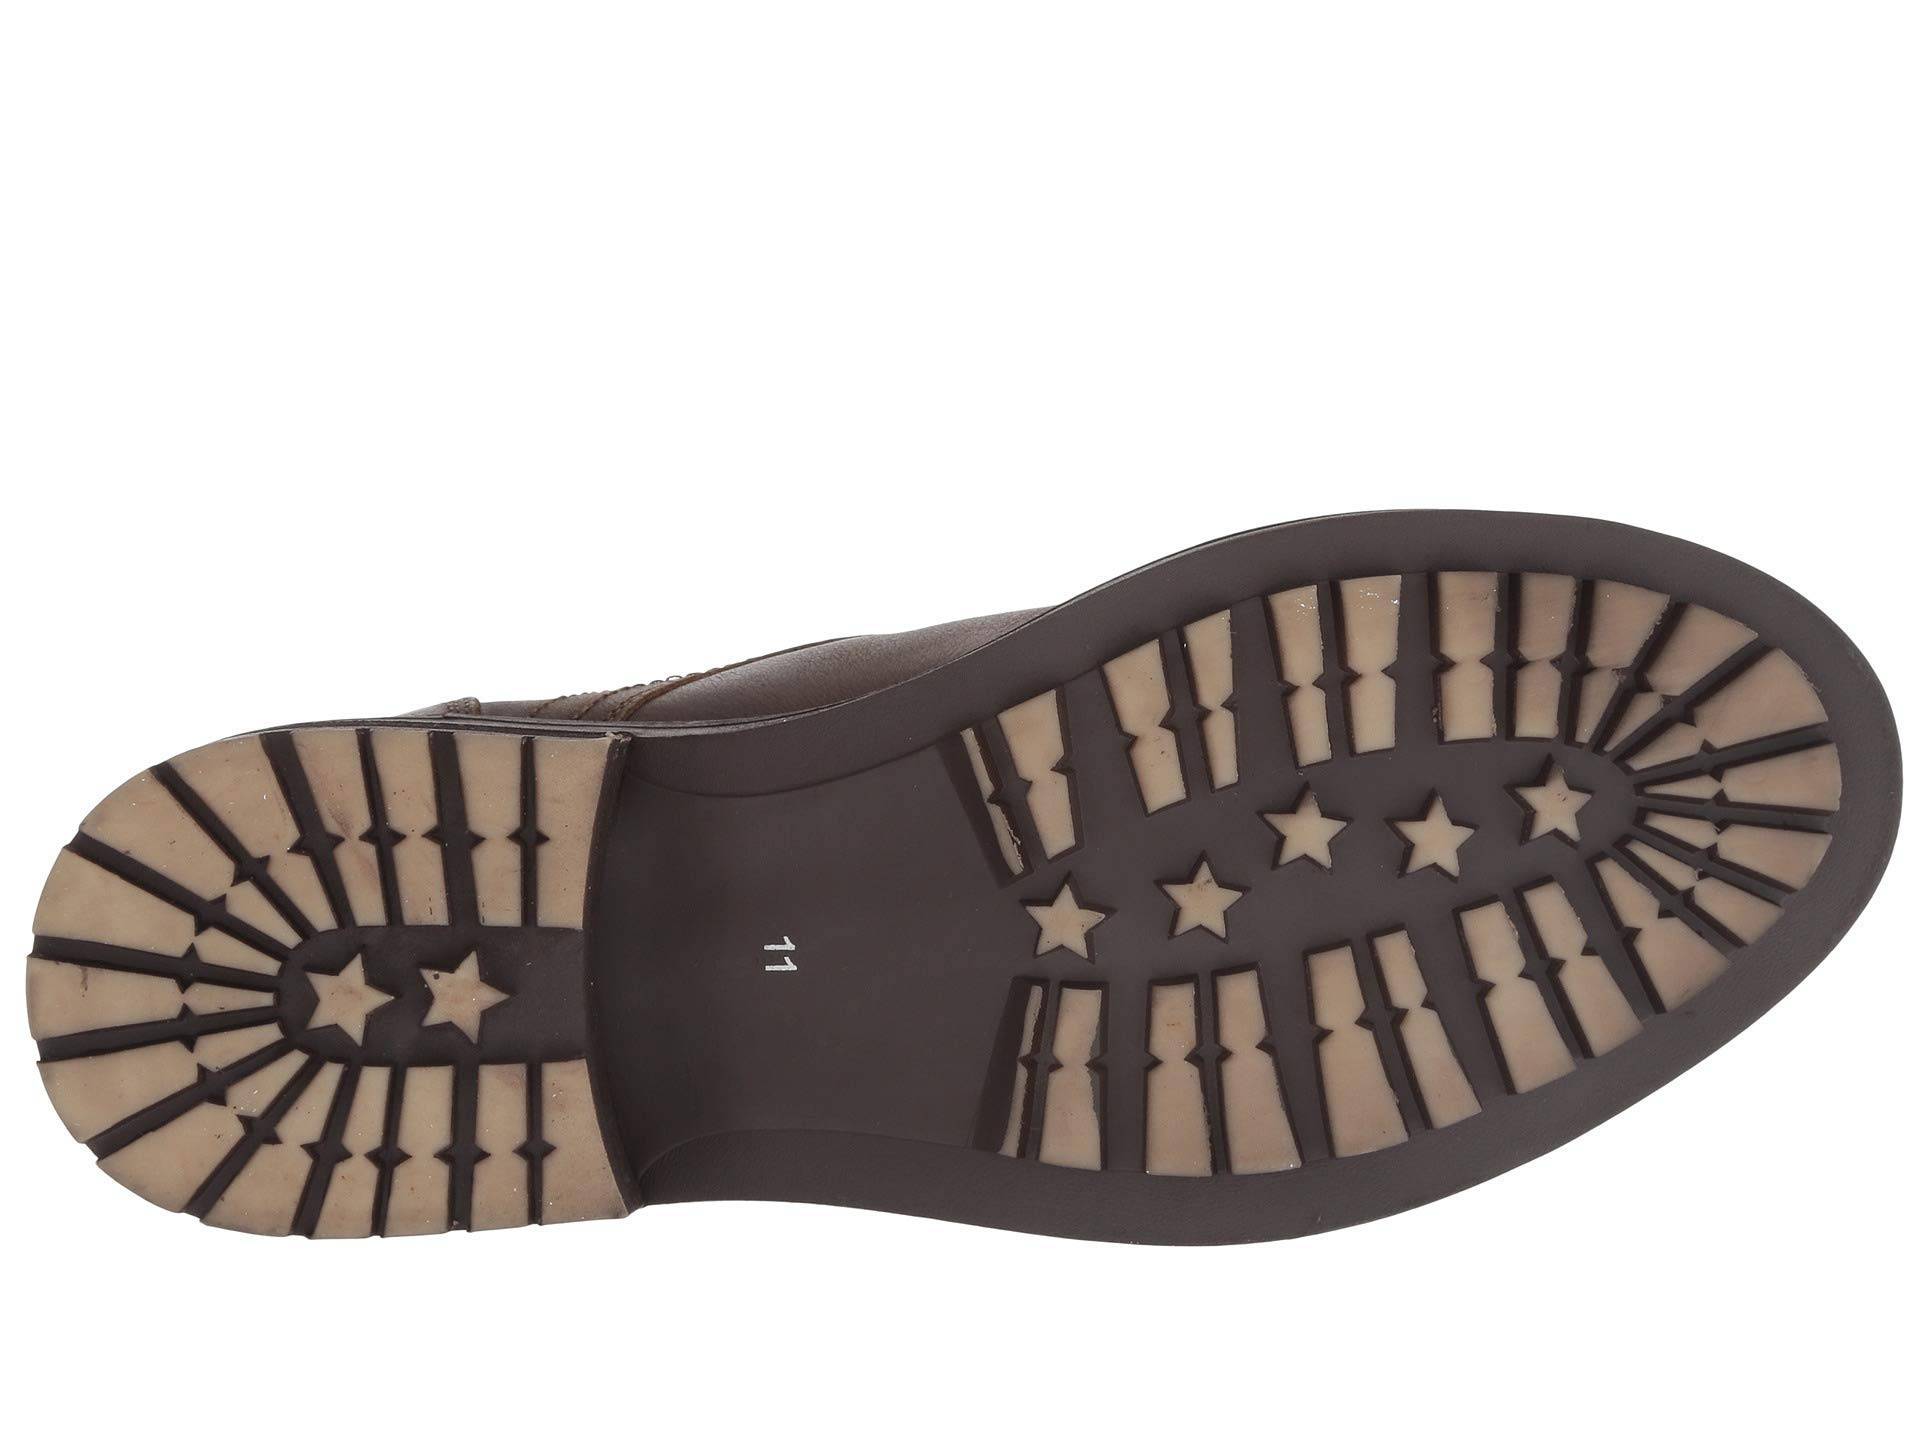bowtie: (21, 715, 633, 1249), (1352, 557, 1758, 1038), (992, 670, 1327, 1190), (1554, 560, 1781, 790), (1282, 918, 1489, 1168), (369, 1050, 568, 1237), (1253, 548, 1414, 779)
exclude: (587, 685, 1008, 1230)
star: (1352, 557, 1758, 1038), (992, 670, 1327, 1190), (286, 932, 538, 1039), (272, 929, 407, 1063), (1131, 829, 1252, 976), (1494, 737, 1618, 861), (408, 938, 537, 1056), (1249, 767, 1367, 892), (1373, 782, 1497, 895)
